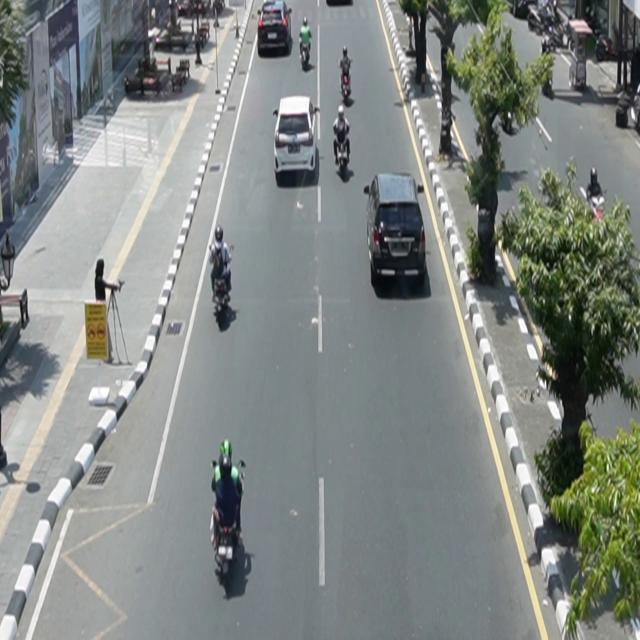car: (365, 172, 428, 287), (273, 96, 321, 175), (258, 1, 293, 56)
